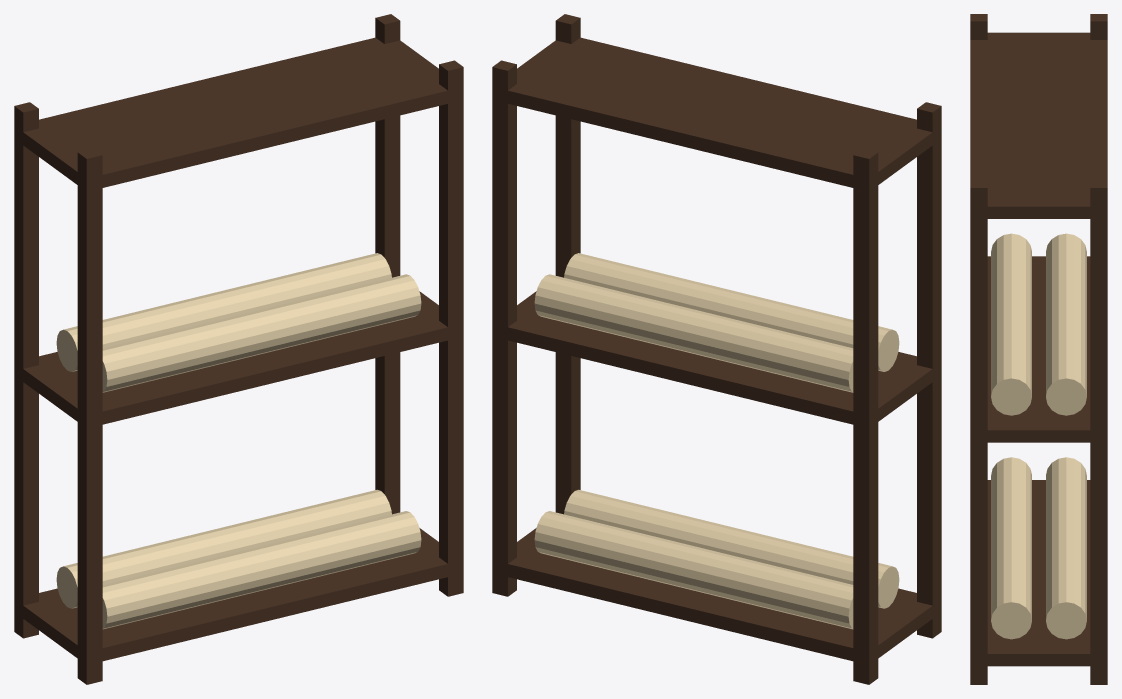
The model's file is prop_rack_1.glb.
3 renders of one model, left to right at view 1: azimuth 30°, elevation 25°; view 2: azimuth 150°, elevation 25°; view 3: azimuth 270°, elevation 25°, orthographic. The views are drawn at different scales.
Parts seen in each view (by area): view 1: PROP_Rack_1; view 2: PROP_Rack_1; view 3: PROP_Rack_1.
Boxes of the visible parts, x1=… form: PROP_Rack_1: x1=14, y1=14, x2=463, y2=684; PROP_Rack_1: x1=492, y1=14, x2=941, y2=684; PROP_Rack_1: x1=970, y1=14, x2=1107, y2=684.
Bounding box in the file's own units: 1.2 × 1.6 × 0.4.
